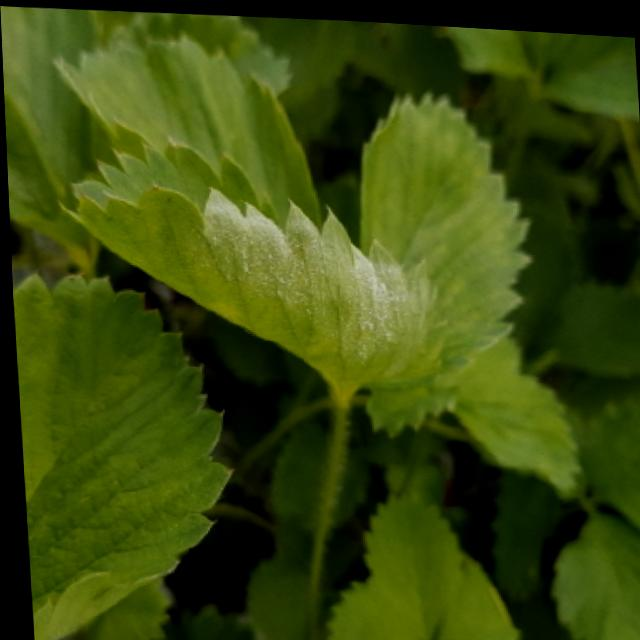Powdery Mildew Leaf: (56, 137, 448, 404)
